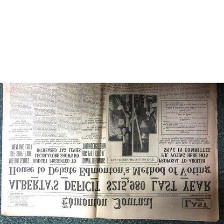news_paper: (0, 82, 219, 221)
